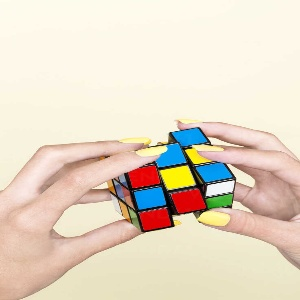cube: (103, 126, 234, 235)
